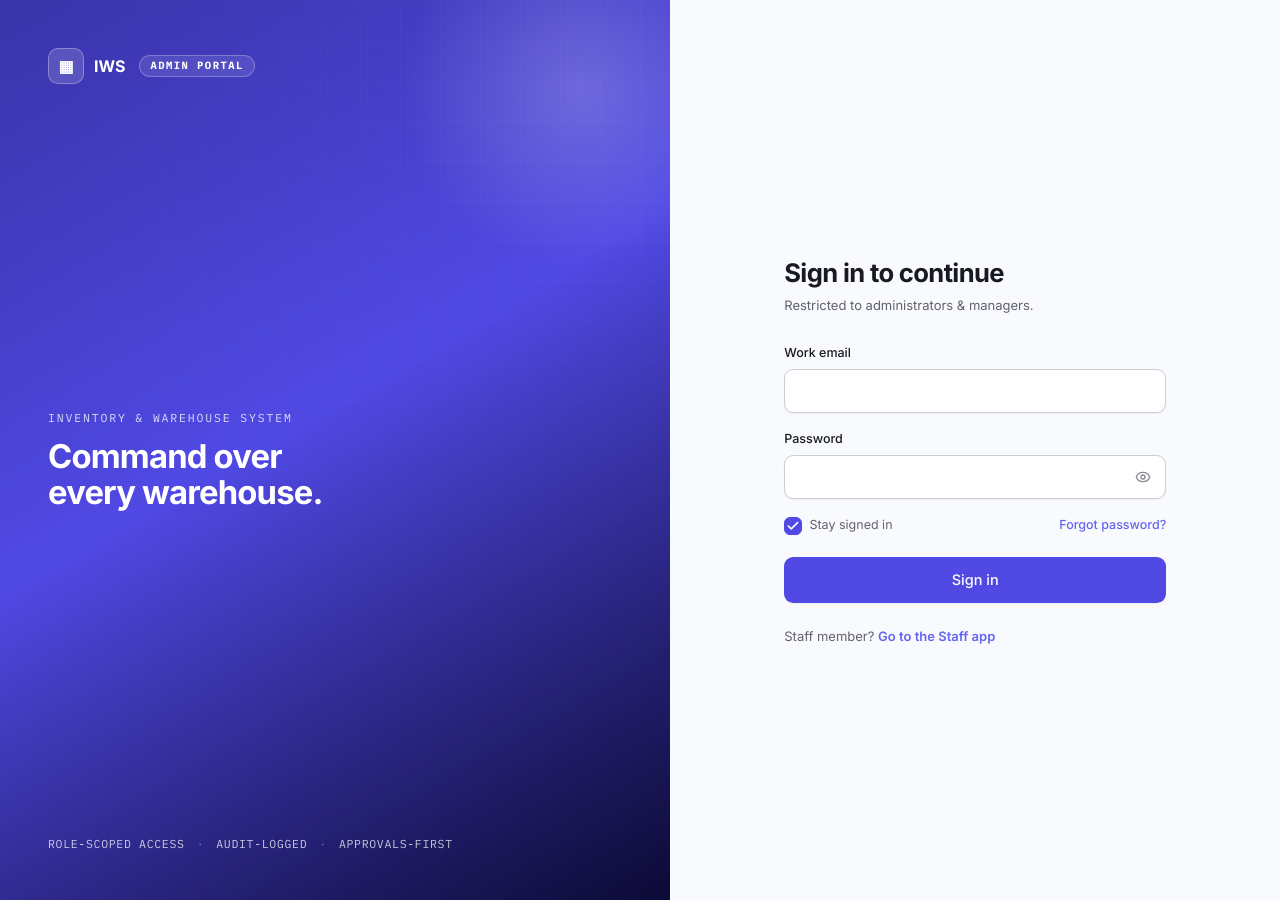
Test: AdminLoginPage › shows a network message when the API is unreachable
Type "admin@iws.local" into the field labelled "Work email". click: x=975, y=391
box: 784,369 -> 1166,413
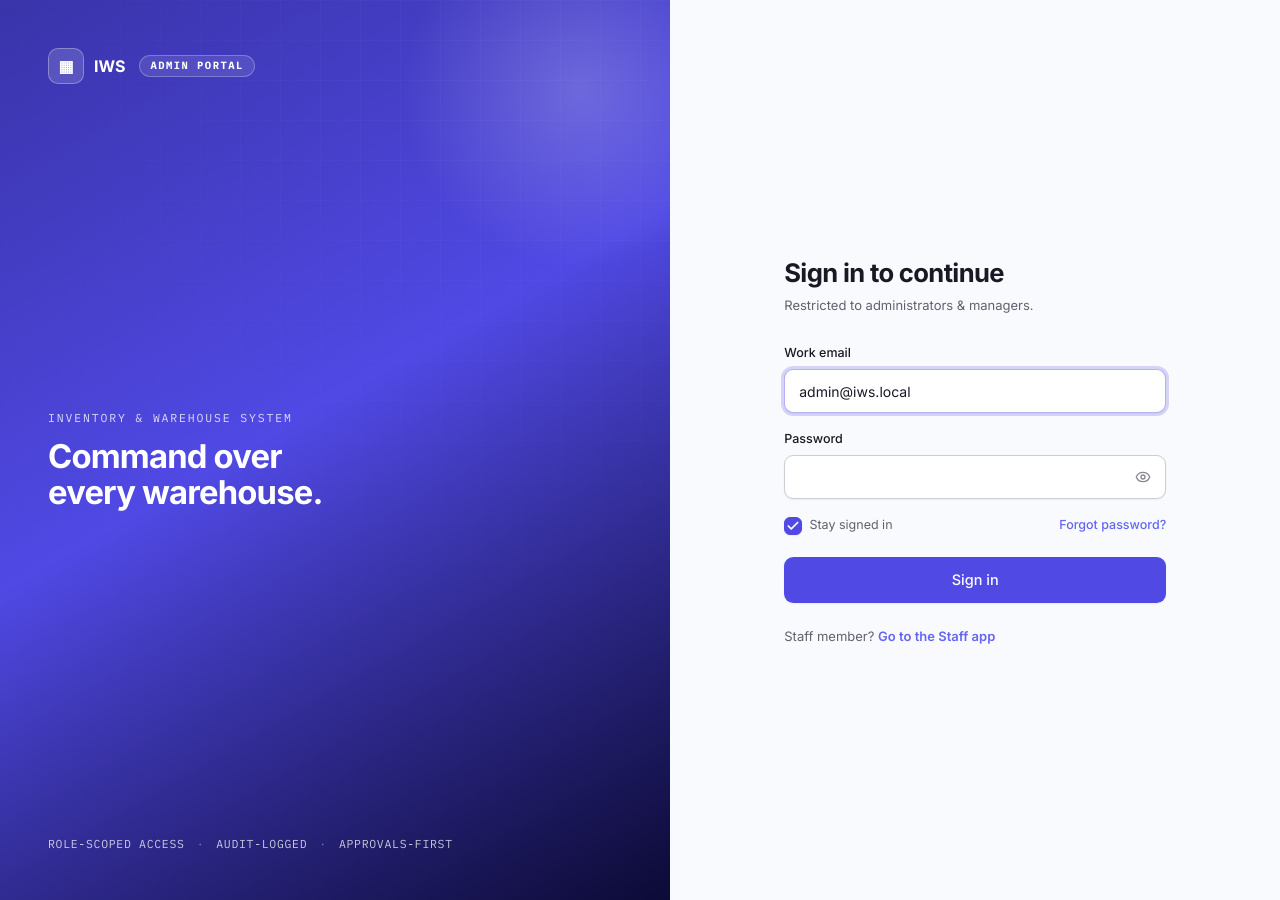
Type "Admin@12345" into the password field labelled "Password". click: x=975, y=478
box: 784,456 -> 1166,500
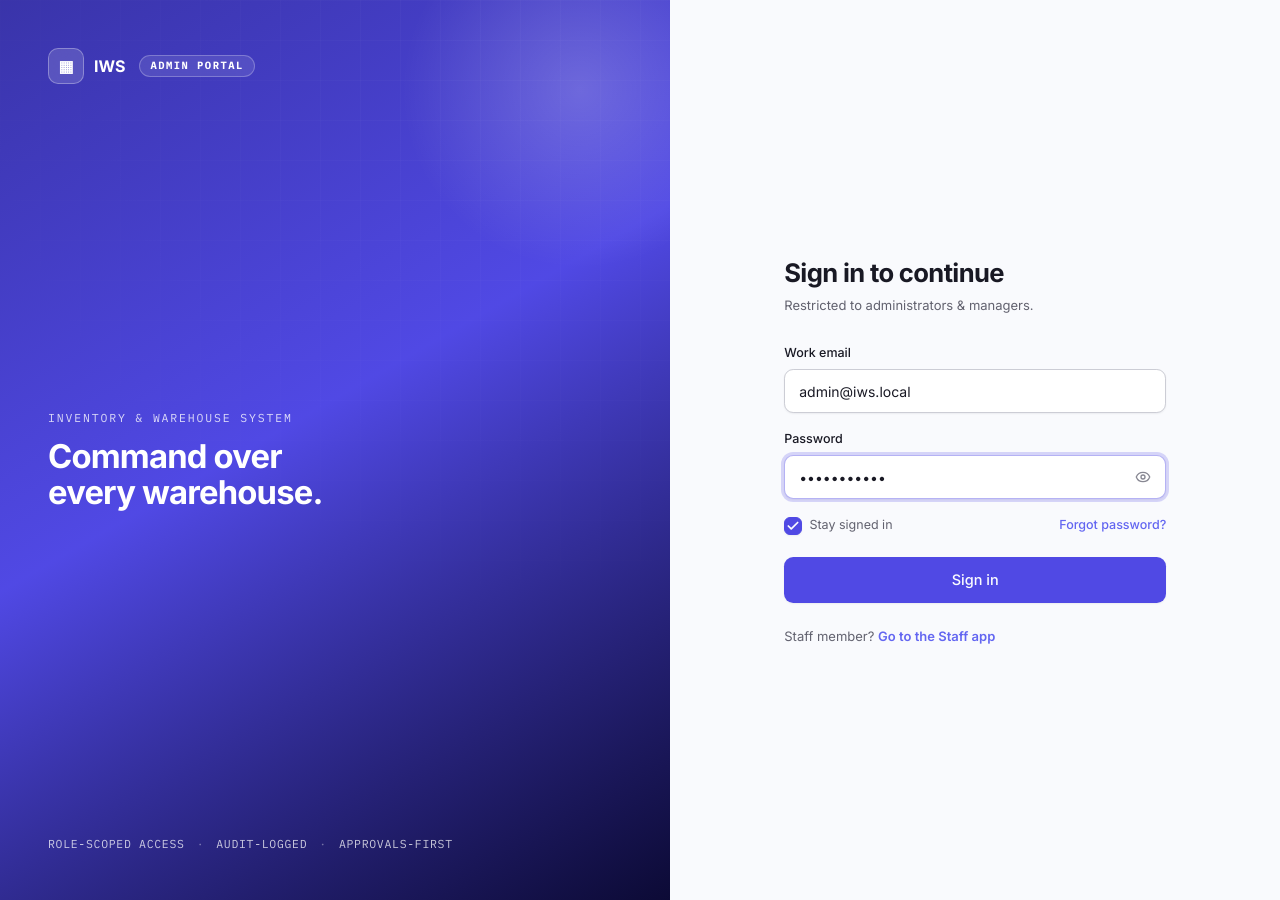
Click the button "Sign in". click: x=975, y=580
box: 784,557 -> 1166,603
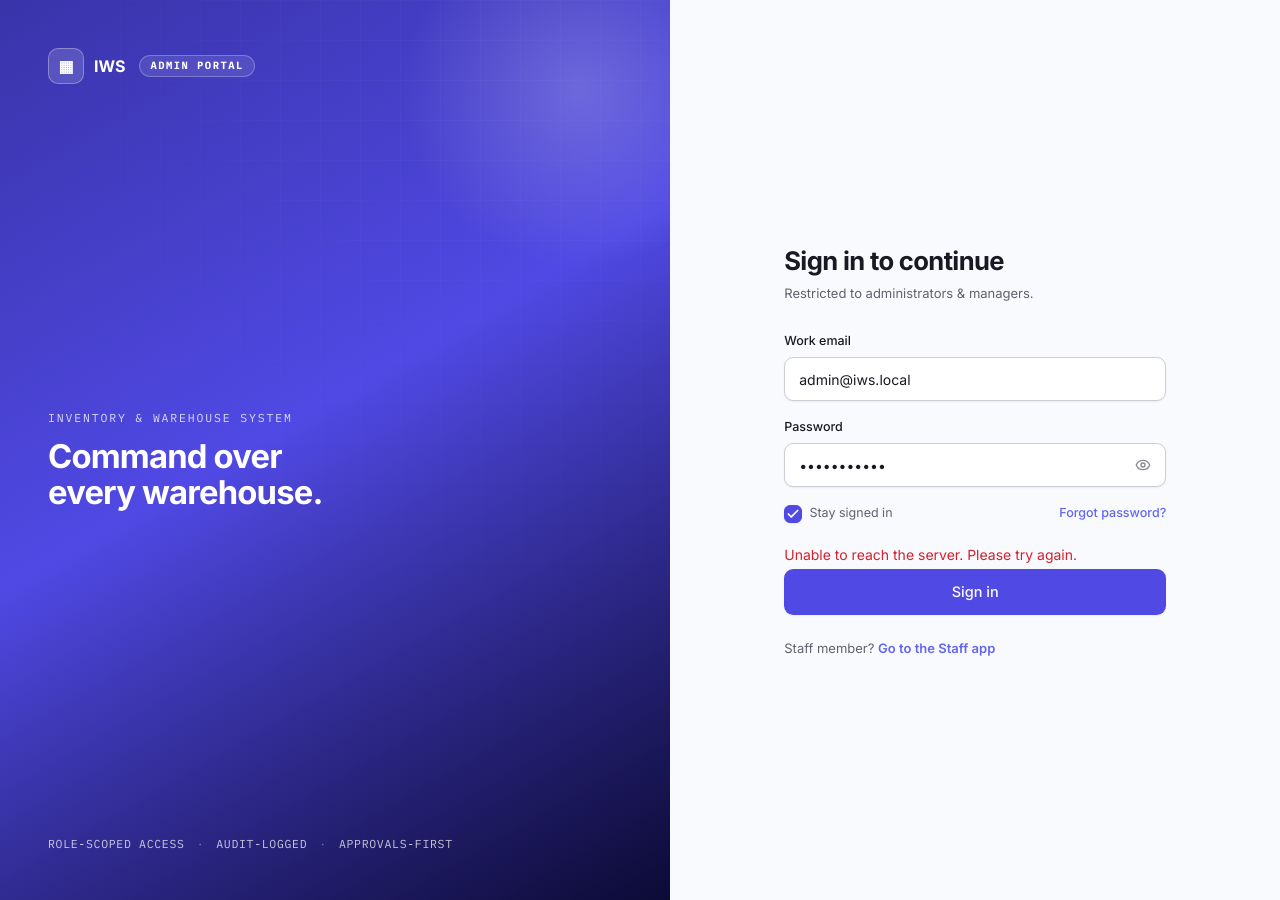
Now the message shows "Unable to reach the server", box 784,546 -> 1077,563
